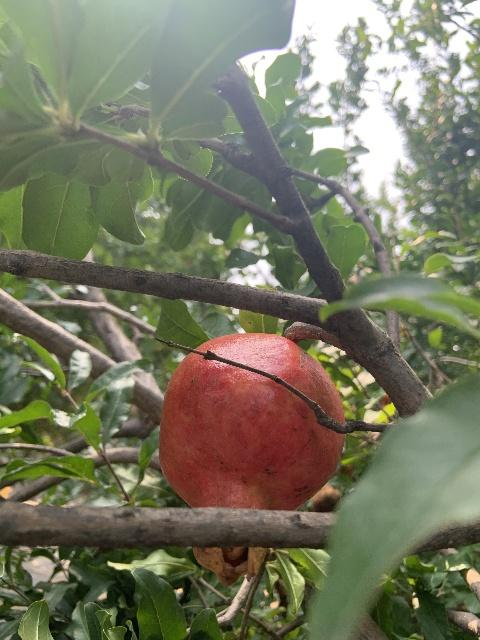ripe: (158, 332, 343, 586)
